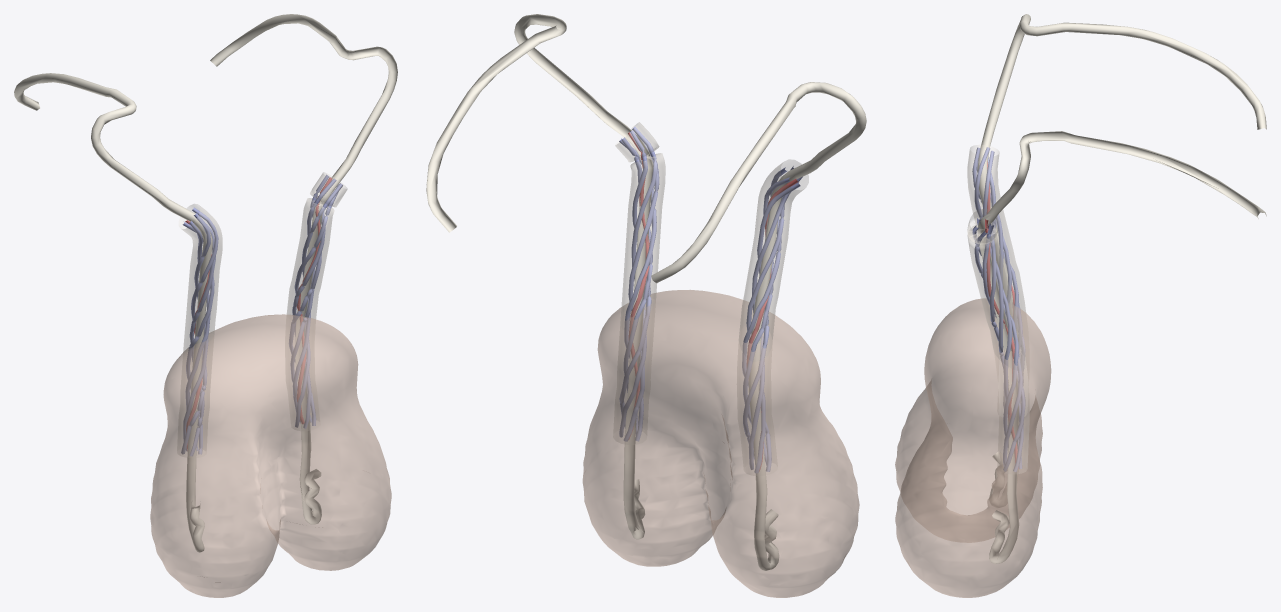
Rendered from anatomyverse-scrotum.glb.
3 views of the same model, side by side, from view 1: azimuth 30°, elevation 25°; view 2: azimuth 150°, elevation 25°; view 3: azimuth 270°, elevation 25° (orthographic). The views are drawn at different scales.
Parts seen in each view (by area): view 1: scrotum, mc_sheath, mc_ductus, mc_pampiniform, mc_artery; view 2: scrotum, mc_sheath, mc_ductus, mc_pampiniform, mc_artery; view 3: scrotum, mc_ductus, mc_sheath, mc_pampiniform, mc_artery.
Part boxes in pixels (x1,y1,x2,y2): scrotum: (150,314,391,597); mc_sheath: (177,172,347,457); mc_ductus: (14,14,397,552); mc_pampiniform: (181,174,342,455); mc_artery: (185,177,332,449); scrotum: (582,290,859,597); mc_sheath: (613,122,808,475); mc_ductus: (426,14,866,570); mc_pampiniform: (619,127,802,473); mc_artery: (628,132,798,471); scrotum: (895,298,1051,597); mc_ductus: (977,14,1266,563); mc_sheath: (967,145,1029,473); mc_pampiniform: (972,147,1025,471); mc_artery: (985,161,1018,468).
Bounding box in the file's own units: 0.1123 × 0.1694 × 0.117.
